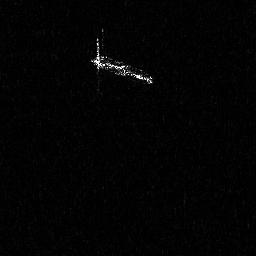ship: (87, 27, 154, 92)
